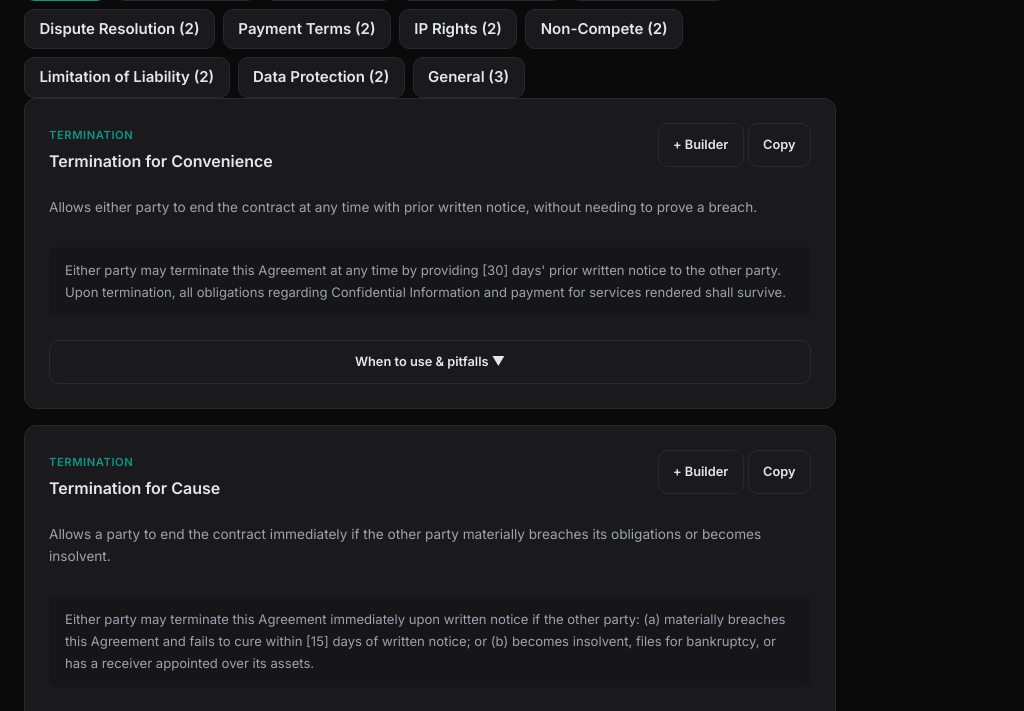
Test: ClauseLibraryPage › expands clause guidance on click
The image size is (1024, 711).
(page scrolled)
Click the button "When to use & pitfalls ▼" below "Termination for Convenience" at (430, 362), box [49,340,811,384]
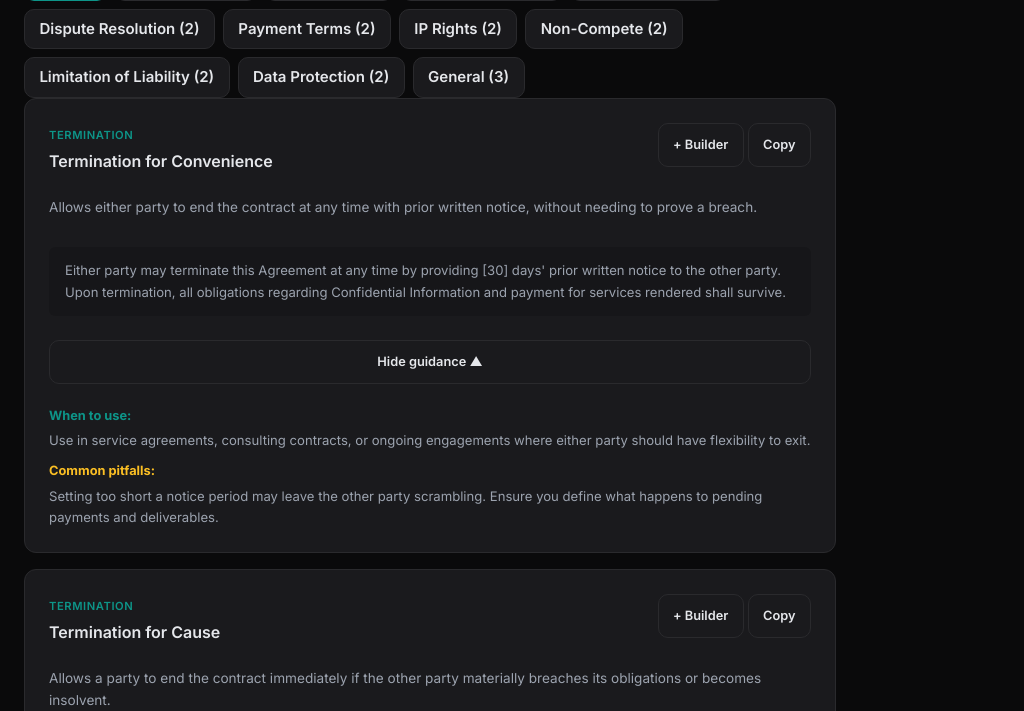
Now the text "When to use:" is shown, box [49,408,131,423]
Now the text "Common pitfalls:" is shown, box [49,463,155,478]
